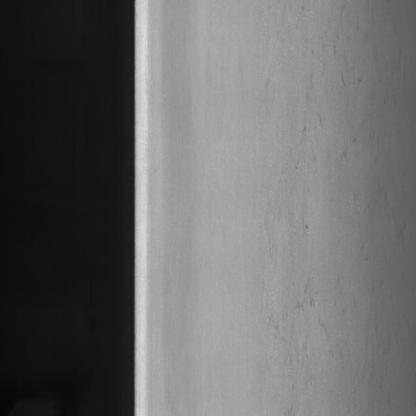silk_spot: (268, 0, 383, 408)
